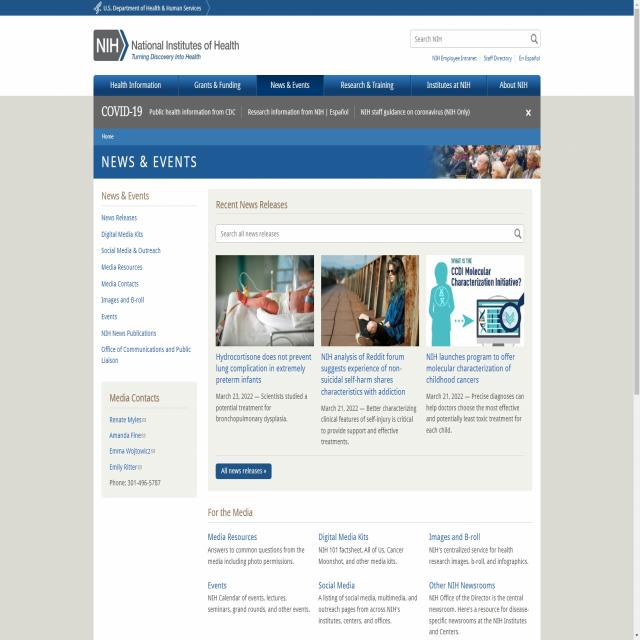content: (96, 177, 206, 640)
menu-bar: (91, 71, 543, 95)
search: (215, 220, 526, 245), (408, 26, 542, 48)
